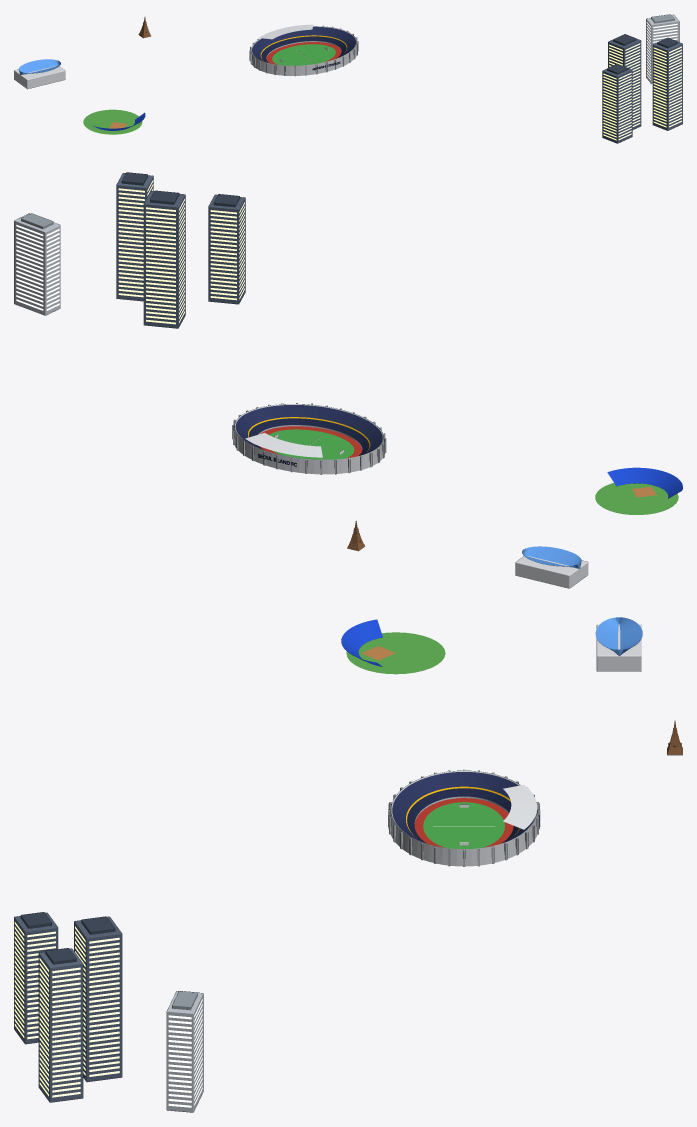
The model's file is mokdong.glb.
3 renders of one model, top to bottom at view 1: azimuth 30°, elevation 25°; view 2: azimuth 150°, elevation 25°; view 3: azimuth 270°, elevation 25°, orthographic. The views are drawn at different scales.
Visible parts, largest first — view 1: mokdong_stadium, hyperion2, hyperion3, hyperion1, baseball, icerink, sbs; view 2: mokdong_stadium, hyperion1, sbs, hyperion3, hyperion2, baseball, icerink; view 3: mokdong_stadium, hyperion2, hyperion1, sbs, baseball, hyperion3, icerink.
Boxes of the visible parts, x1,y1,x2,y2 form: mokdong_stadium: (249, 24, 358, 76); hyperion2: (652, 37, 682, 130); hyperion3: (602, 64, 632, 143); hyperion1: (608, 34, 641, 129); baseball: (83, 109, 145, 134); icerink: (14, 59, 65, 89); sbs: (646, 14, 679, 84); mokdong_stadium: (232, 403, 386, 474); hyperion1: (143, 190, 185, 328); sbs: (14, 213, 60, 315); hyperion3: (208, 194, 245, 304); hyperion2: (116, 172, 153, 301); baseball: (595, 467, 682, 514); icerink: (515, 546, 588, 588); mokdong_stadium: (388, 769, 540, 866); hyperion2: (38, 948, 83, 1102); hyperion1: (74, 916, 122, 1082); sbs: (166, 991, 203, 1112); baseball: (341, 619, 445, 674); hyperion3: (14, 912, 58, 1044); icerink: (595, 617, 642, 671).
Size of the model in its own units: 823 by 131 by 539.
